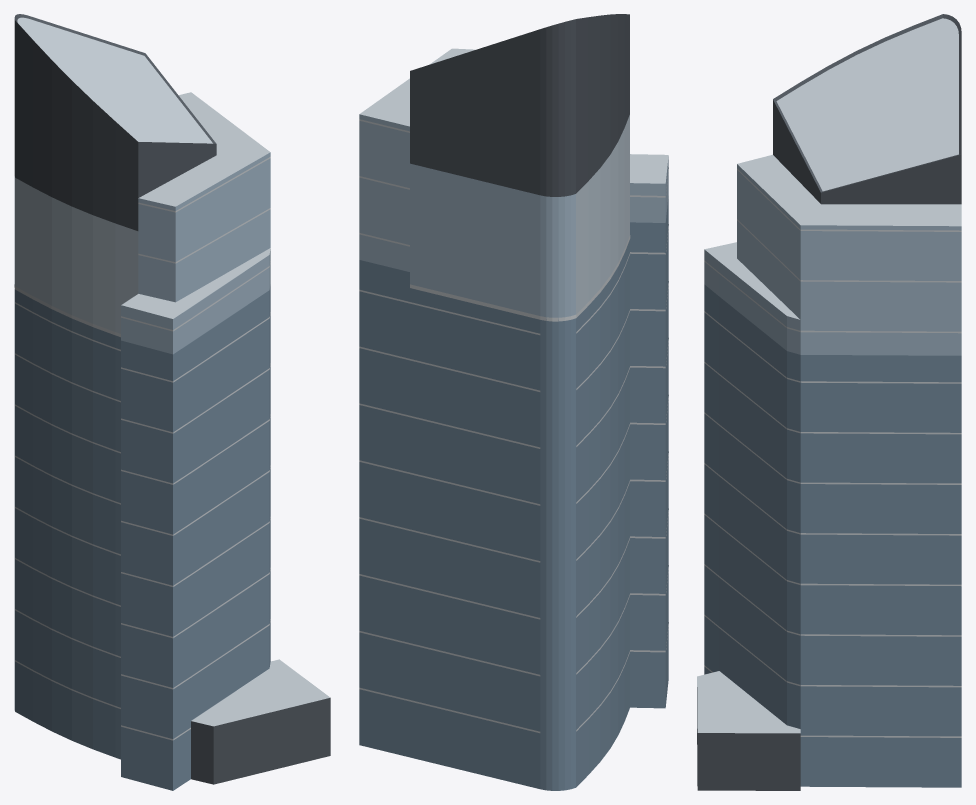
File: pit-tower-at-pnc-plaza.glb
3 renders of one model, left to right at view 1: azimuth 30°, elevation 25°; view 2: azimuth 150°, elevation 25°; view 3: azimuth 270°, elevation 25°, orthographic. The views are drawn at different scales.
Parts seen in each view (by area): view 1: The Tower at PNC Plaza; view 2: The Tower at PNC Plaza; view 3: The Tower at PNC Plaza.
Boxes of the visible parts, x1,y1,x2,y2 form: The Tower at PNC Plaza: [14, 14, 330, 790]; The Tower at PNC Plaza: [359, 14, 668, 790]; The Tower at PNC Plaza: [697, 14, 961, 790].
Size of the model in its own units: 48.44 by 166 by 58.35.
